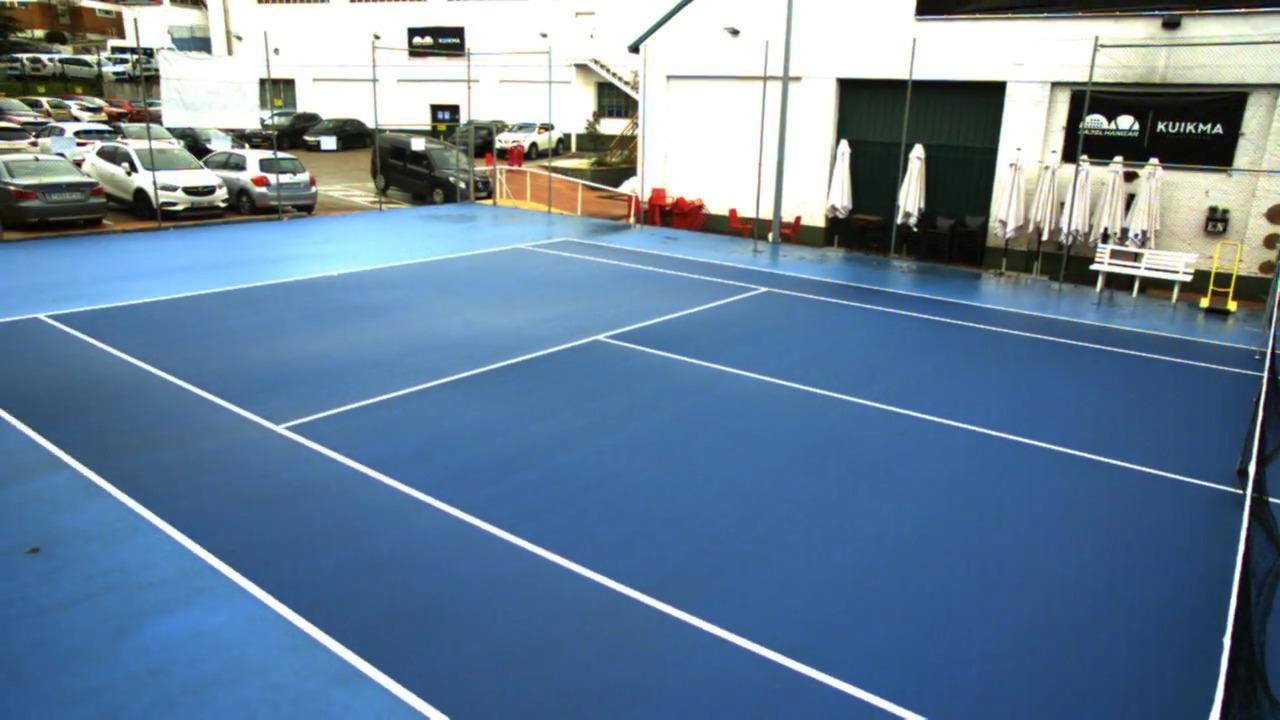cancha_tenis: (37, 242, 1280, 720)
point_f1: (30, 299, 58, 329)
point_f2: (509, 235, 537, 259)
point_fc1: (327, 270, 343, 282)
point_i1: (266, 412, 303, 444)
point_i2: (748, 279, 777, 299)
point_ic1: (586, 324, 621, 347)
